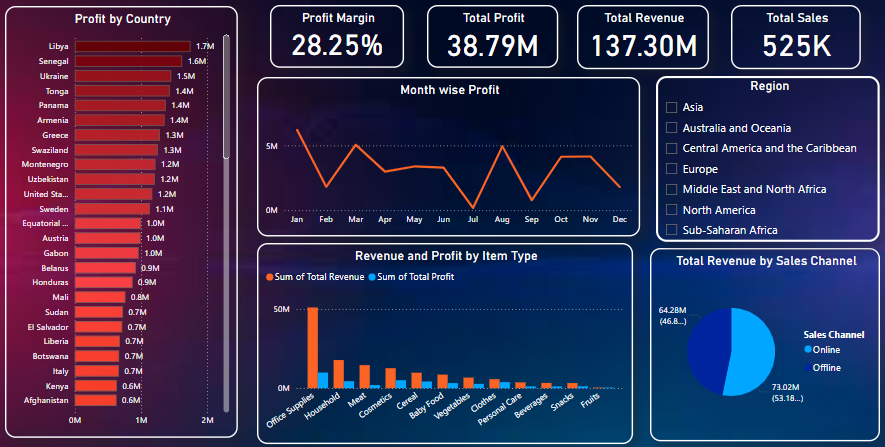

What the dashboard file says about the page in this screenshot:
{"tool":"powerbi","page":{"name":"Performance","canvas":[1280,720],"ordinal":0},"visuals":[{"type":"card","title":"Total Profit","fields":{"Values":["Fact.Profit total"]},"box":[596.2,7.2,195.8,89.3],"z":0},{"type":"card","title":"Profit Margin","fields":{"Values":["Fact.Profit margin %"]},"box":[373,7.2,195.8,89.3],"z":1000},{"type":"card","title":"Total Sales","fields":{"Values":["Fact.Total sales"]},"box":[1039.7,7.2,194.4,89.3],"z":2000},{"type":"card","title":"Total Revenue","fields":{"Values":["Fact.Revenue total"]},"box":[822.2,7.2,195.8,89.3],"z":3000},{"type":"lineChart","title":"Month wise Profit","fields":{"Y":["Sum(Fact.Total Profit)"],"Category":["Fact.Order_Month"]},"box":[357.2,106.3,547.1,260.8],"z":4000},{"type":"clusteredBarChart","title":"Profit by Country","fields":{"Category":["dim_country.Country"],"Y":["Sum(Fact.Total Profit)"]},"box":[0,15.8,347,689.8],"z":5000},{"type":"clusteredColumnChart","title":"Revenue and  Profit by Item Type","fields":{"Category":["dim_item_type.Item Type"],"Y":["Sum(Fact.Total Revenue)","Sum(Fact.Total Profit)"]},"box":[357.1,371.5,541.4,337],"z":6000},{"type":"pieChart","title":"Total Revenue by Sales Channel","fields":{"Category":["dim_sales_channel.Sales Channel"],"Y":["Sum(Fact.Total Revenue)"]},"box":[908.6,383,360,315.4],"z":7000},{"type":"slicer","title":"Region","fields":{"Values":["dim_region.Region"]},"box":[924.5,109.4,324,262.1],"z":8000}]}

Visuals, with their boxes on the page's 1280x720 design canvas (x1, y1, x2, y2). These are canvas units, not pixel positions in the 885x447 screenshot, which may show the page scaled, cropped or inside an application window:
"Total Profit" card: x1=596 y1=7 x2=792 y2=96
"Profit Margin" card: x1=373 y1=7 x2=569 y2=96
"Total Sales" card: x1=1040 y1=7 x2=1234 y2=96
"Total Revenue" card: x1=822 y1=7 x2=1018 y2=96
"Month wise Profit" lineChart: x1=357 y1=106 x2=904 y2=367
"Profit by Country" clusteredBarChart: x1=0 y1=16 x2=347 y2=706
"Revenue and  Profit by Item Type" clusteredColumnChart: x1=357 y1=372 x2=898 y2=708
"Total Revenue by Sales Channel" pieChart: x1=909 y1=383 x2=1269 y2=698
"Region" slicer: x1=924 y1=109 x2=1248 y2=372
